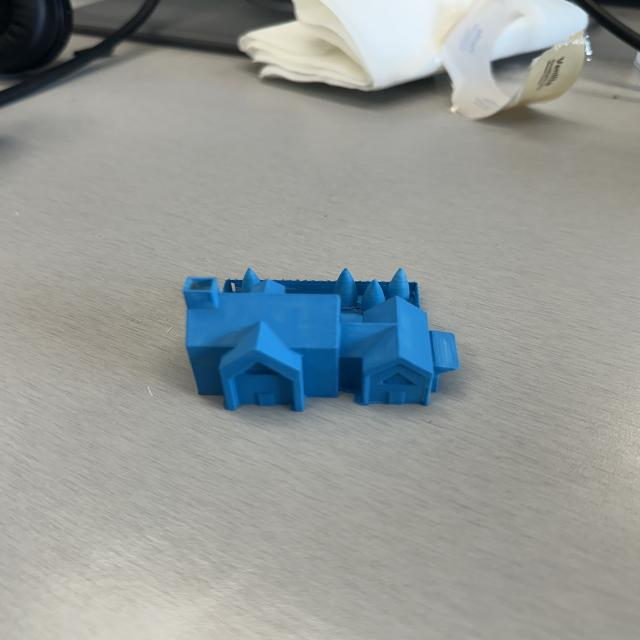house: (181, 267, 463, 413)
